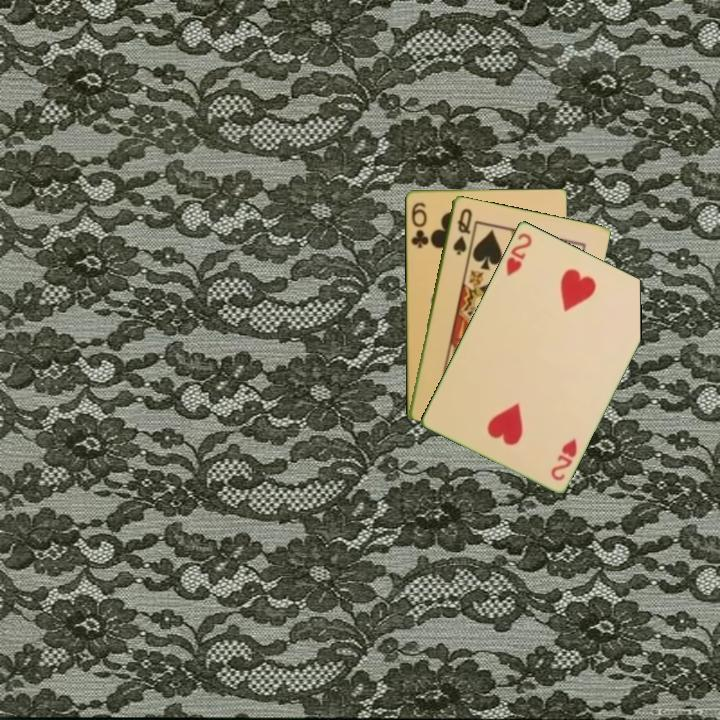2h: (502, 229, 535, 279), (547, 435, 580, 483)
6c: (407, 199, 431, 250)
Qs: (449, 204, 475, 258)
